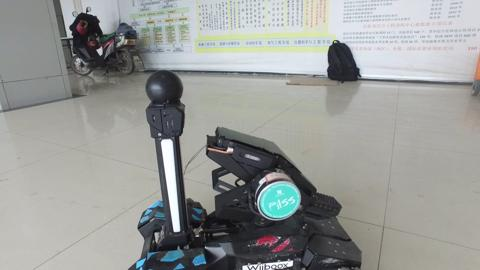bag: (320, 34, 371, 93)
chariot: (116, 70, 361, 270)
